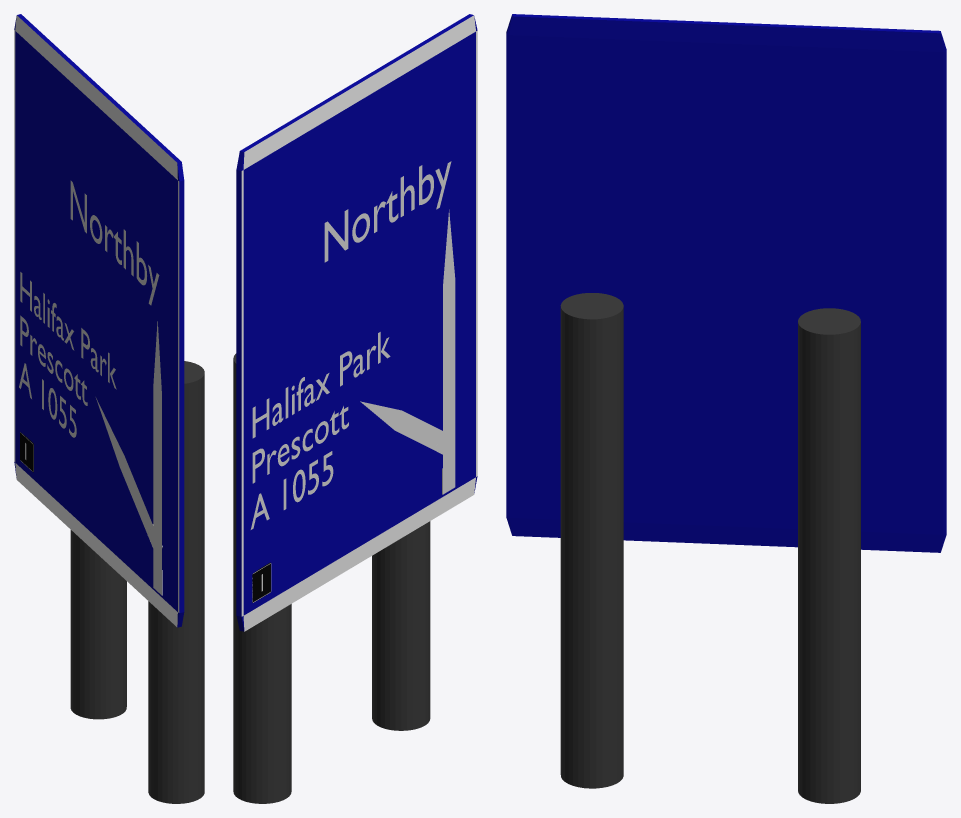
The model's file is JCT1JunctionSign1.fbx.
3 renders of one model, left to right at view 1: azimuth 30°, elevation 25°; view 2: azimuth 150°, elevation 25°; view 3: azimuth 270°, elevation 25°, orthographic. The views are drawn at different scales.
Parts seen in each view (by area): view 1: Sign, Sign.005, Sign.003, Sign.006, Sign.004, Sign.007; view 2: Sign, Sign.005, Sign.003, Sign.006, Sign.004, Sign.007; view 3: Sign.
Part boxes in pixels (x1=…): Sign: x1=14, y1=14, x2=204, y2=803; Sign.005: x1=19, y1=272, x2=116, y2=437; Sign.003: x1=153, y1=321, x2=162, y2=595; Sign.006: x1=70, y1=180, x2=159, y2=305; Sign.004: x1=95, y1=397, x2=162, y2=556; Sign.007: x1=20, y1=432, x2=33, y2=472; Sign: x1=233, y1=14, x2=477, y2=803; Sign.005: x1=250, y1=332, x2=390, y2=529; Sign.003: x1=442, y1=209, x2=455, y2=494; Sign.006: x1=324, y1=161, x2=451, y2=262; Sign.004: x1=360, y1=401, x2=449, y2=454; Sign.007: x1=252, y1=562, x2=271, y2=602; Sign: x1=506, y1=14, x2=946, y2=803.
Size of the model in its own units: 115 by 824 by 443.
